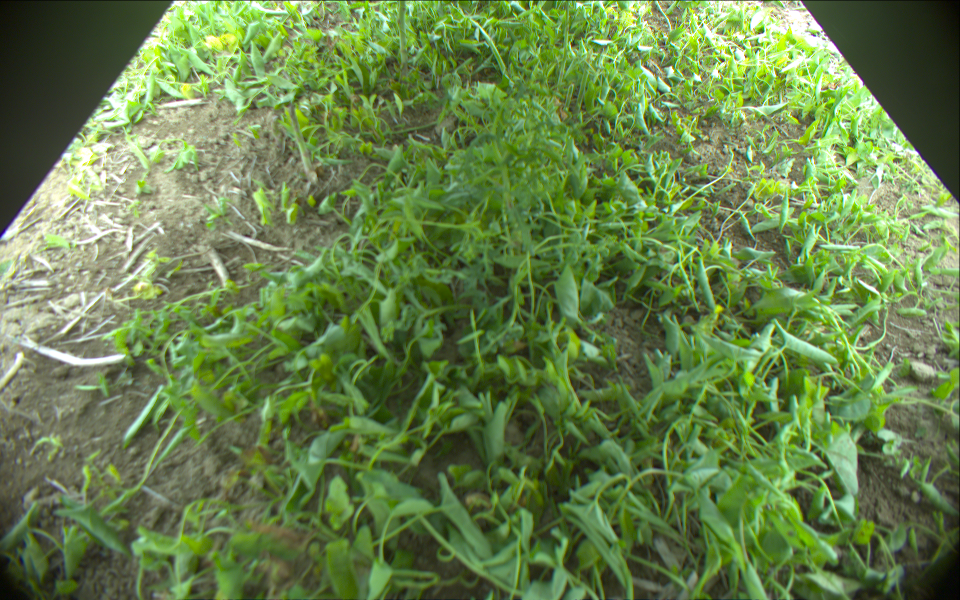aspa: (288, 103, 312, 178), (578, 53, 594, 112), (558, 1, 569, 84), (398, 1, 408, 63), (563, 84, 575, 115)
